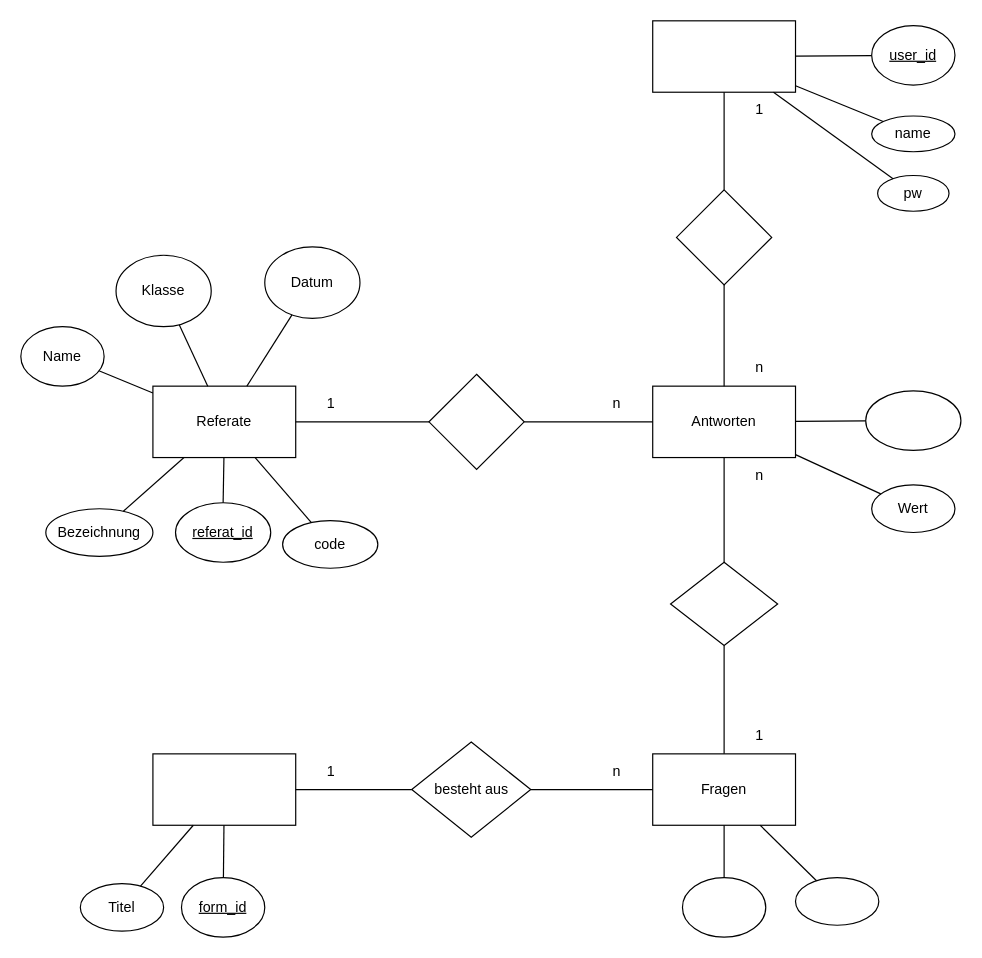
This 982x958 diagram has some shape labels left out. The centre of each missing label's shape, as x and y in pixels:
antwort_id: the point at 913,420
Formulare: the point at 224,789
frage_id: the point at 723,906
gehört zu: the point at 723,603
gibt: the point at 723,237
hat: the point at 476,421
Inhalt: the point at 836,900
User: the point at 724,56
